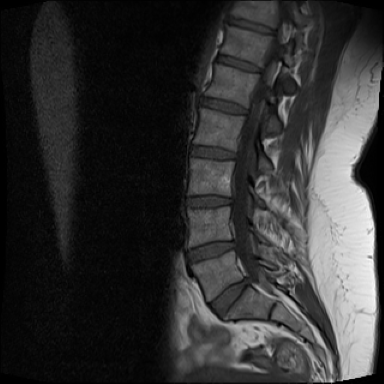Lumbar Disc Bulge (LDB): (201, 271, 256, 325), (183, 236, 244, 270)
Normal IVD: (206, 47, 265, 78), (192, 91, 251, 121), (218, 11, 276, 41), (183, 190, 236, 215), (184, 143, 241, 164)
Spinal Stenosis (SS): (234, 272, 252, 295), (224, 232, 240, 257)
